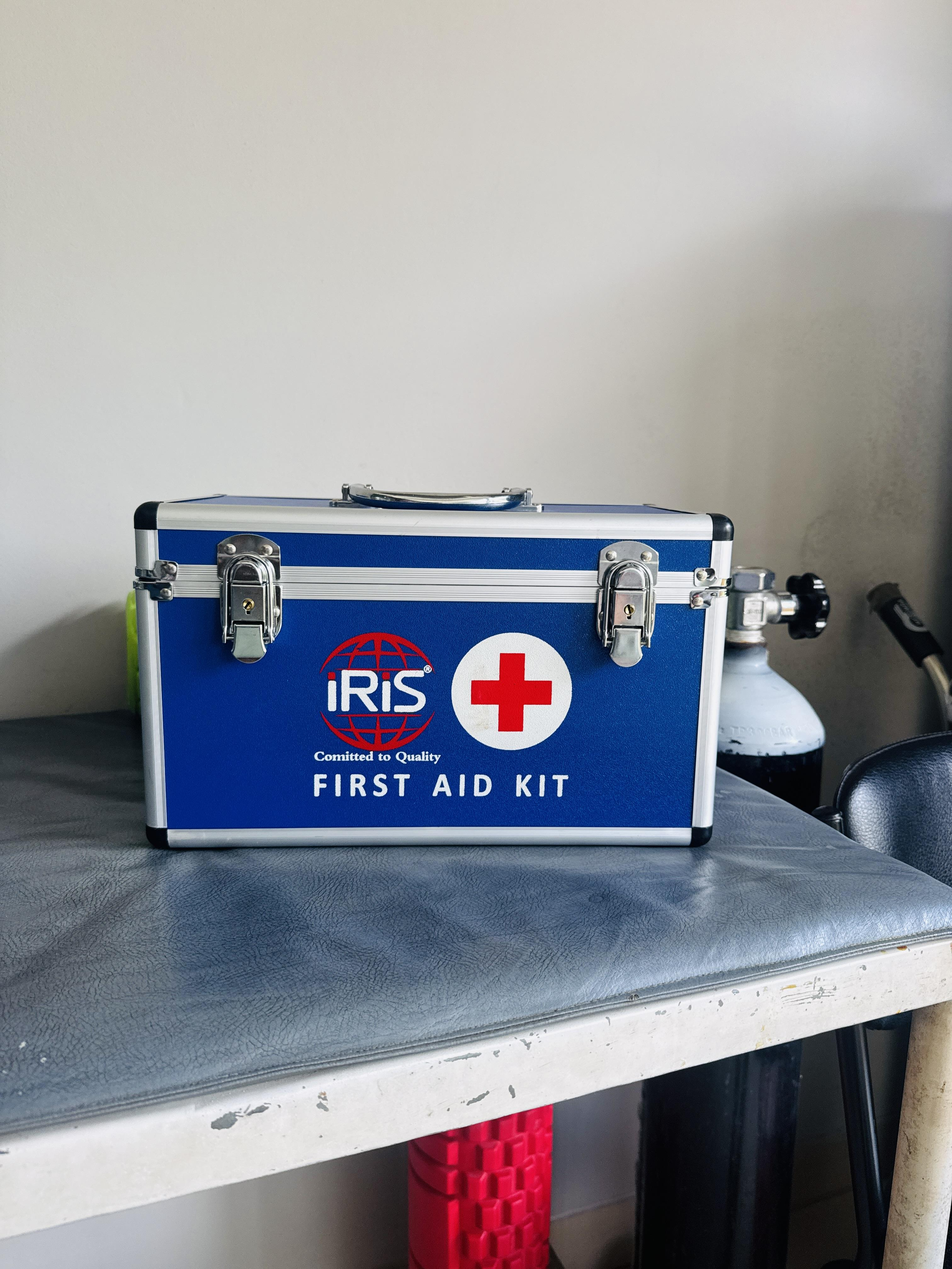FirstAidBox: (107, 456, 757, 900)
